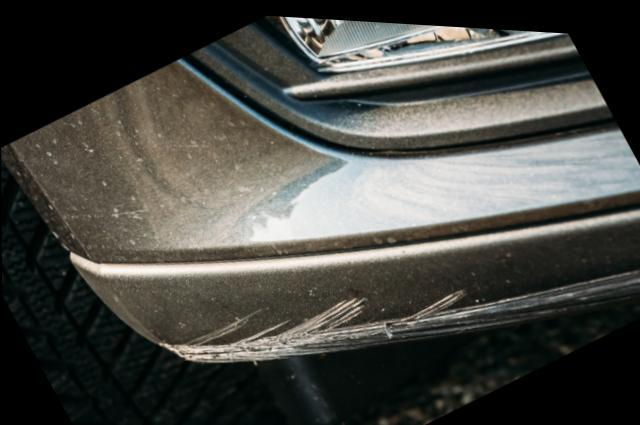lamp broken: (253, 12, 569, 72)
scratch: (155, 254, 640, 365)
